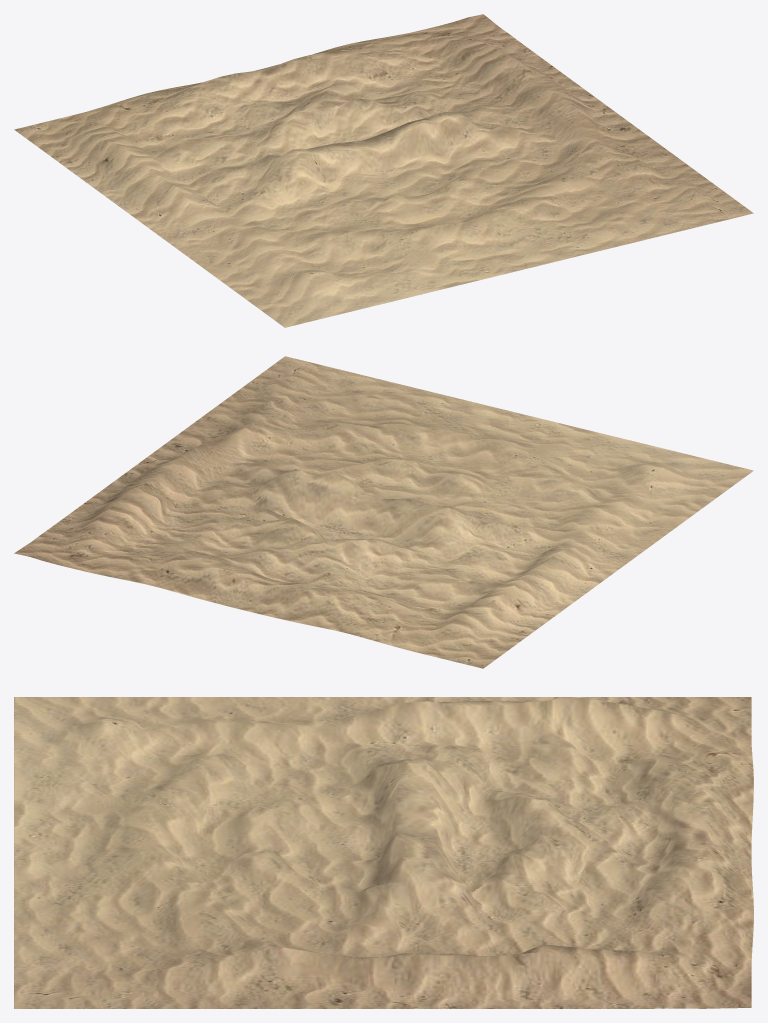
File: Sand.obj
The picture shows the model from 3 angles, top to bottom: view 1: azimuth 30°, elevation 25°; view 2: azimuth 150°, elevation 25°; view 3: azimuth 270°, elevation 25°; orthographic projection. The views are drawn at different scales.
Visible parts, largest first — view 1: Plane; view 2: Plane; view 3: Plane.
Boxes of the visible parts, left/top/right/bottom form: Plane: left=14, top=14, right=753, bottom=327; Plane: left=14, top=356, right=753, bottom=668; Plane: left=14, top=697, right=753, bottom=1008.
Bounding box in the file's own units: 10.01 × 0.6764 × 10.03.
1 material, 1 textured.
